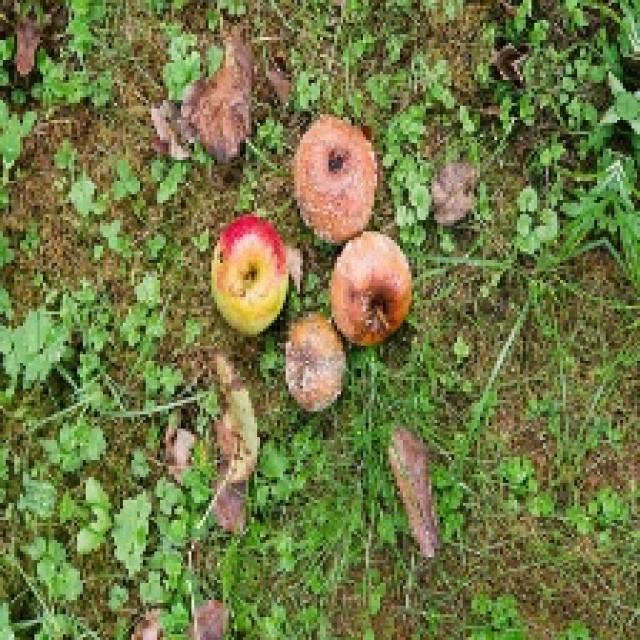rotten_apple: (298, 121, 379, 232), (336, 233, 410, 340), (288, 317, 345, 410)
